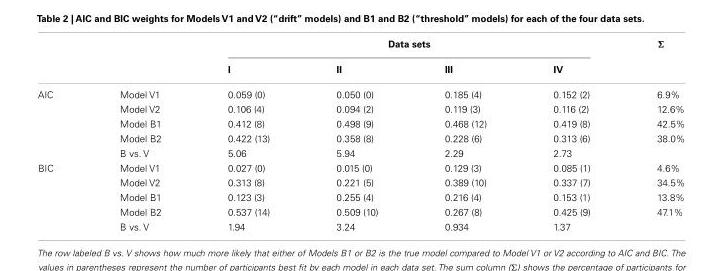table: (36, 37, 684, 231)
table column: (193, 37, 302, 231), (410, 37, 519, 231), (85, 37, 193, 231), (302, 37, 410, 231), (519, 37, 622, 231), (622, 37, 684, 231), (36, 37, 85, 231)
table column header: (36, 37, 684, 81)
table row: (36, 55, 684, 81), (36, 81, 684, 101), (36, 37, 684, 55), (36, 115, 684, 130), (36, 130, 684, 145), (36, 159, 684, 174), (36, 174, 684, 189), (36, 203, 684, 218), (36, 101, 684, 115), (36, 145, 684, 159), (36, 189, 684, 203), (36, 218, 684, 231)
table spanning cell: (193, 37, 622, 55), (36, 81, 85, 159), (36, 159, 85, 231), (622, 37, 684, 81)
